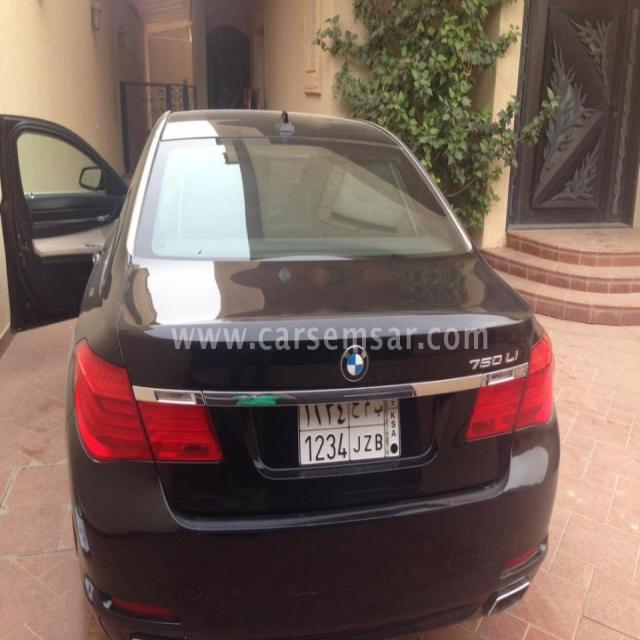license_plate: (294, 394, 402, 469)
